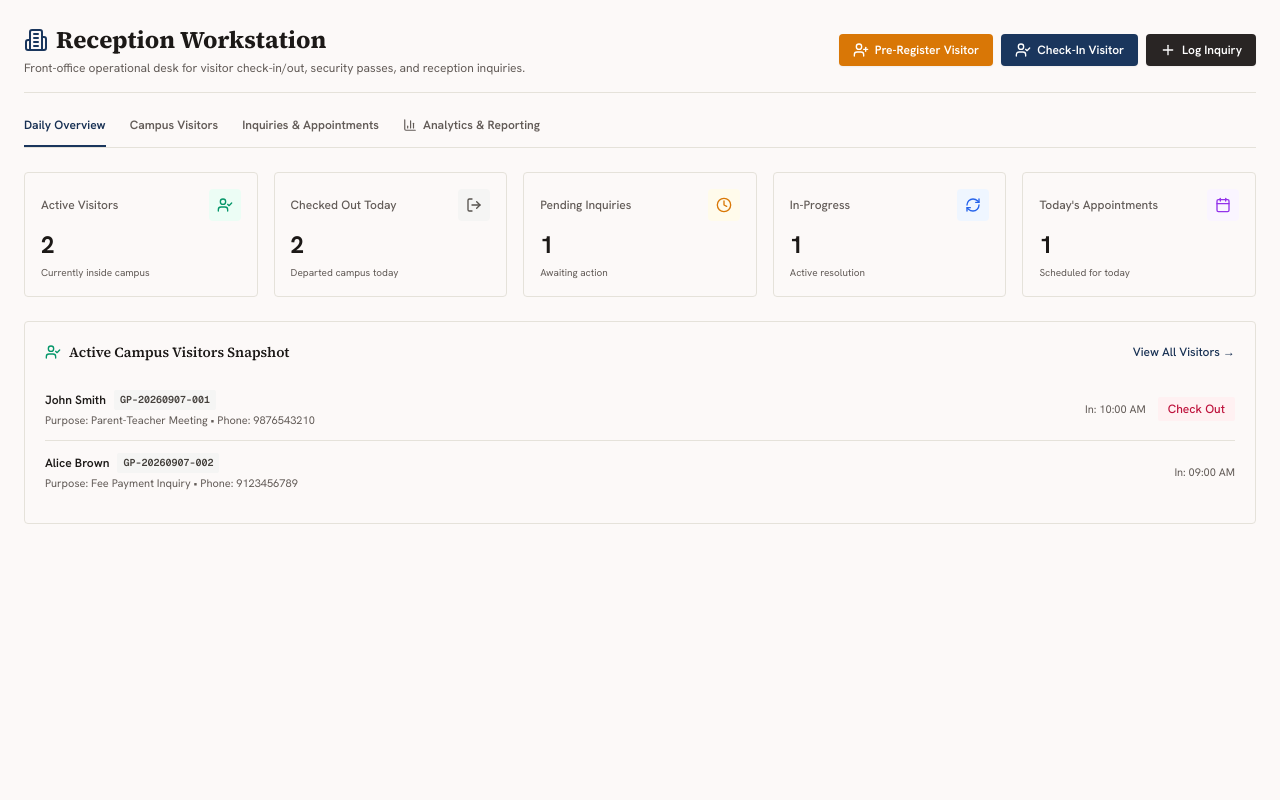
ReceptionPage Workstation UI › 5. Displays Visitor Detail dossier modal with masked/authorized identity proof details
Click the button "Campus Visitors" at (174, 132), box [130, 117, 218, 147]
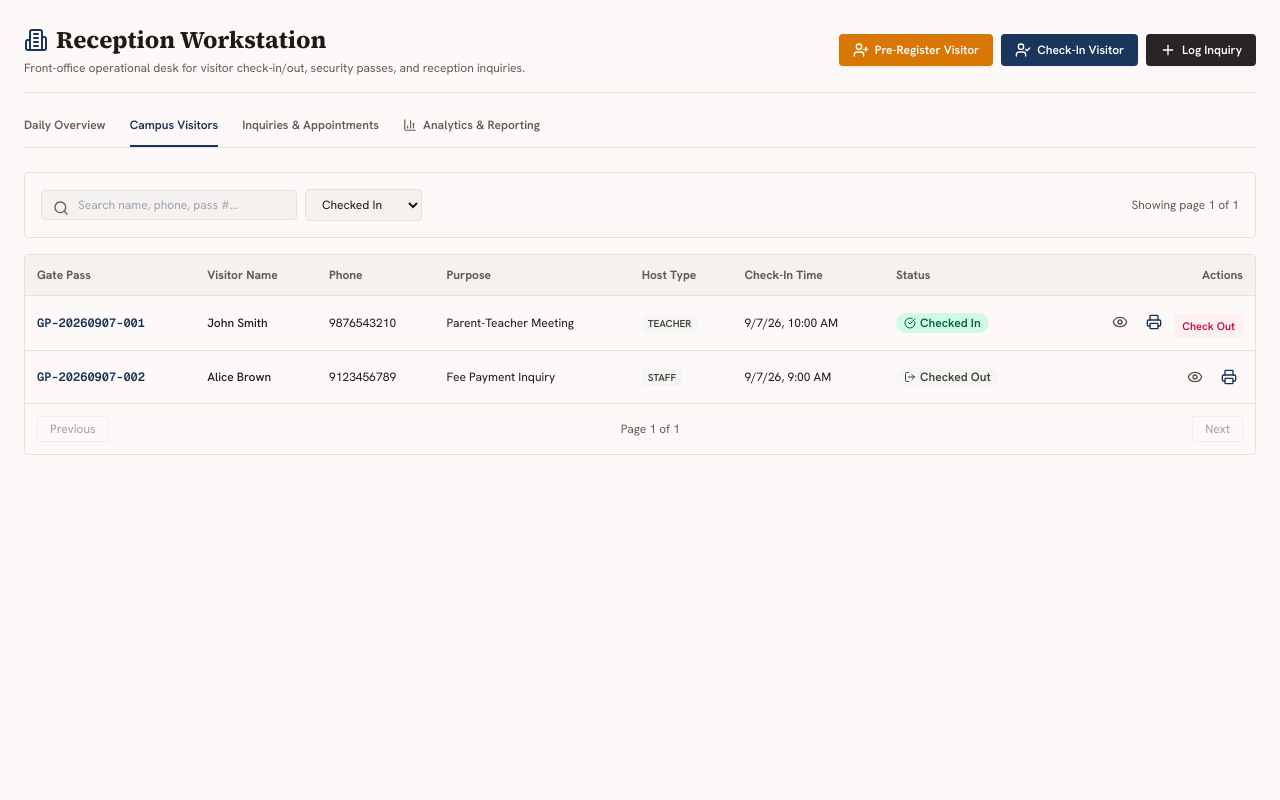
Click the button titled "View Details" in the row of "GP-20260907-001" at (1120, 322), box [1106, 308, 1134, 336]
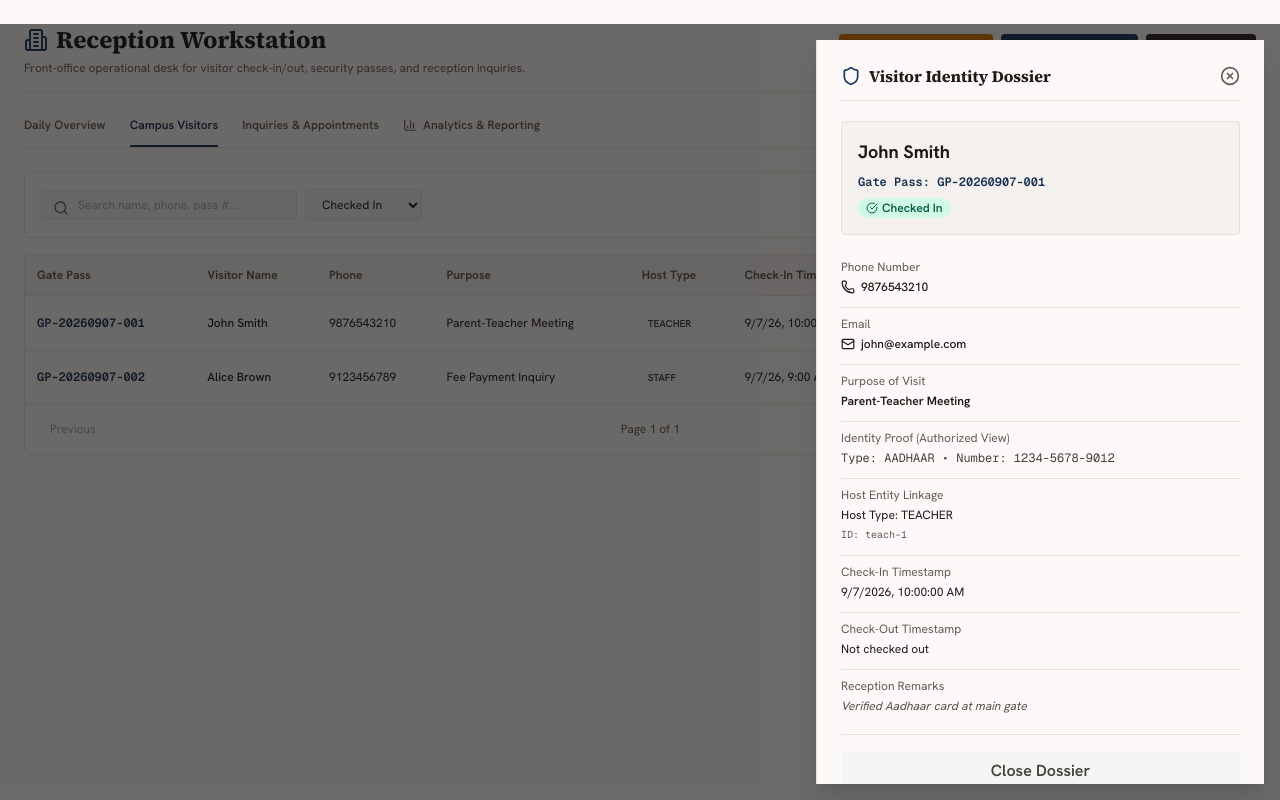
Expected: the heading "Visitor Identity Dossier" is shown, [841, 64, 1051, 88]
Expected: the text "Verified Aadhaar card at main gate" is shown, [841, 698, 1027, 714]
